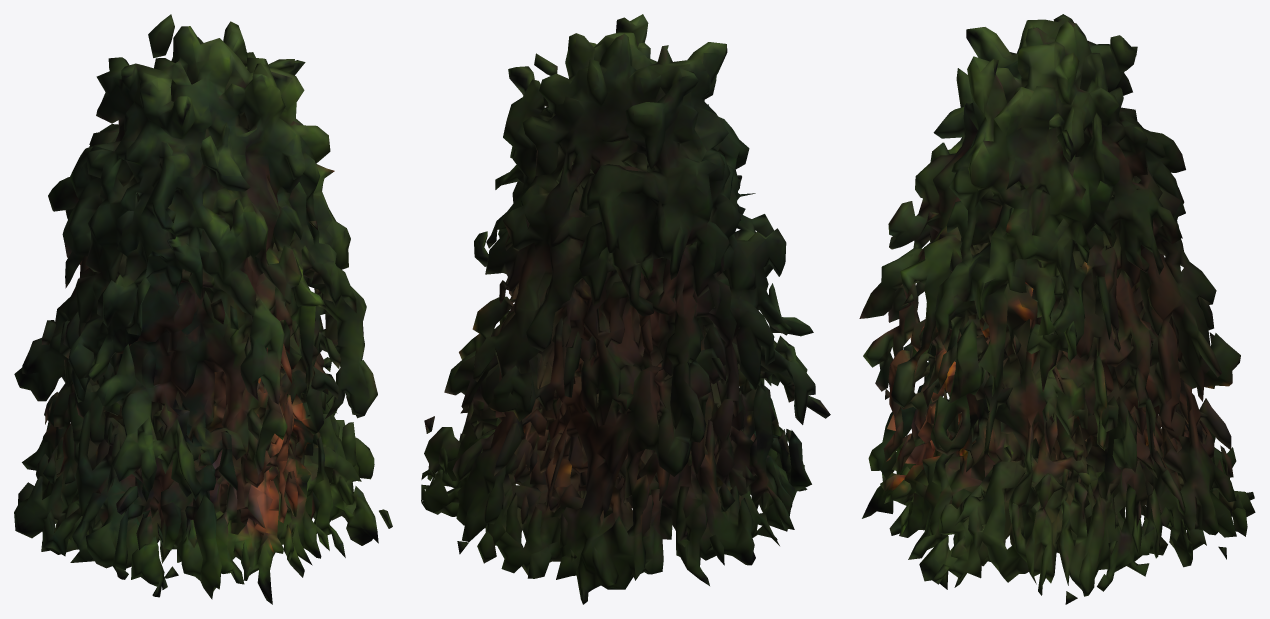
File: AI_LightningRedwoodTree.fbx
The picture shows the model from 3 angles, left to right: view 1: azimuth 30°, elevation 25°; view 2: azimuth 150°, elevation 25°; view 3: azimuth 270°, elevation 25°; orthographic projection. The views are drawn at different scales.
Visible parts, largest first — view 1: Mesh_0; view 2: Mesh_0; view 3: Mesh_0.
Boxes of the visible parts, x1,y1,x2,y2 form: Mesh_0: [14, 14, 392, 604]; Mesh_0: [421, 14, 830, 604]; Mesh_0: [859, 14, 1255, 604].
Size of the model in its own units: 139 by 197 by 139.
1 material, 1 textured.
